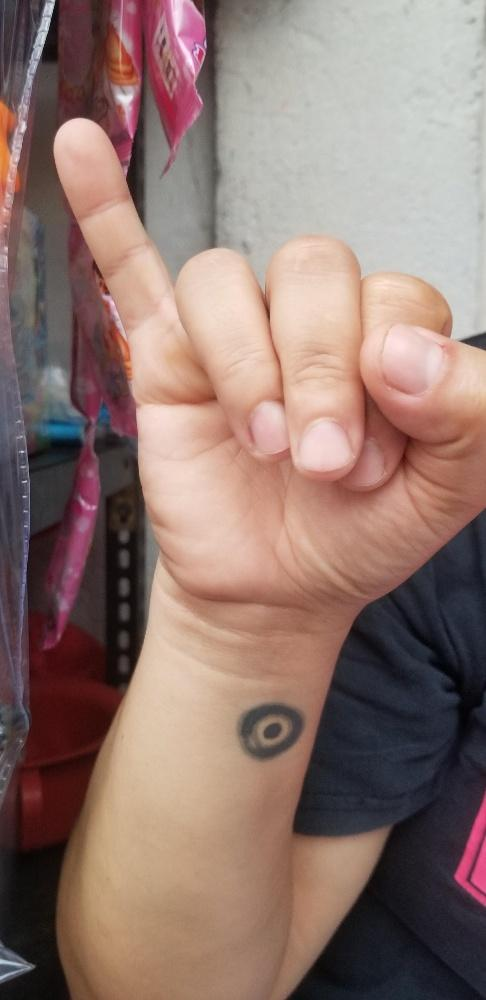i: (50, 116, 485, 603)
